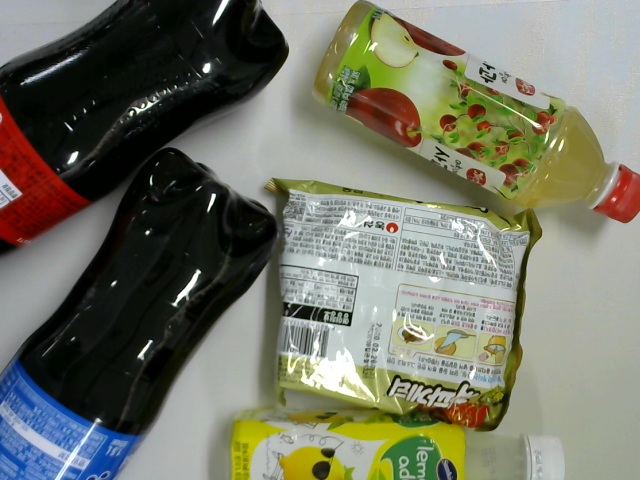Coca_Cola_1.5L: (1, 1, 291, 262)
Morning_Apple_500ml: (310, 1, 640, 224)
Olive_Chapaghetti: (263, 177, 544, 434)
Pepsi_Cola_1.5L: (1, 146, 278, 480)
Sunkist_Lemonaid_Pet: (224, 407, 570, 480)
